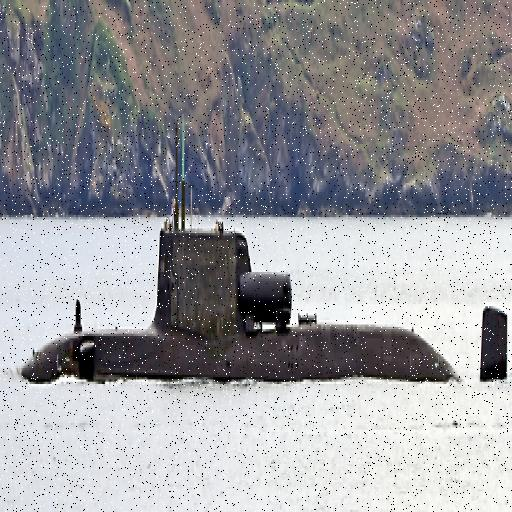submarine: (19, 209, 509, 383)
